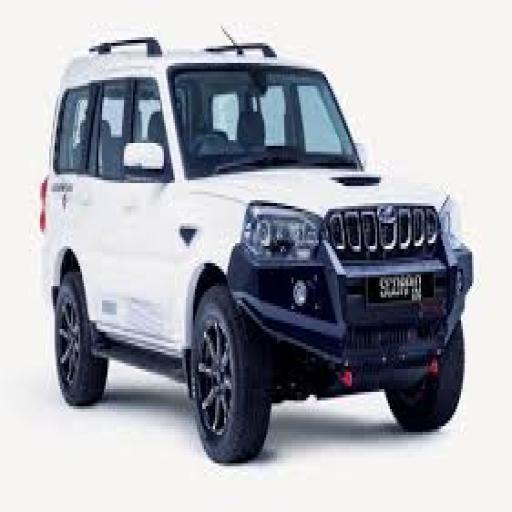car: (34, 24, 484, 502)
